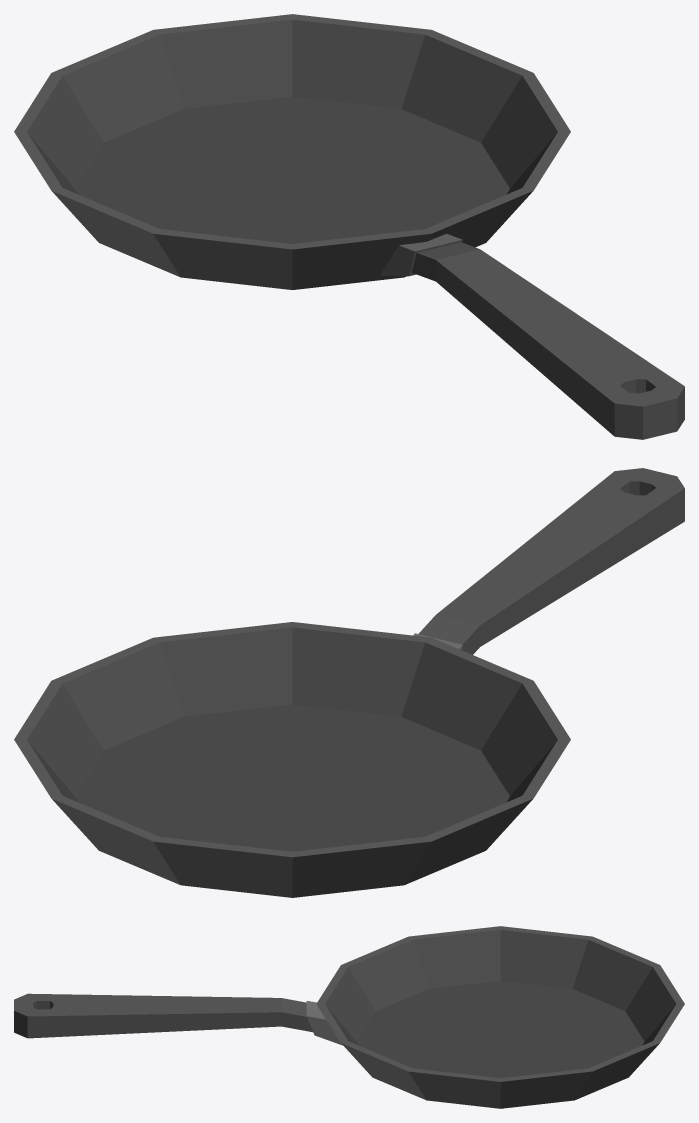
File: Pan_05_C2.fbx
The picture shows the model from 3 angles, top to bottom: view 1: azimuth 30°, elevation 25°; view 2: azimuth 150°, elevation 25°; view 3: azimuth 270°, elevation 25°; orthographic projection. The views are drawn at different scales.
Parts seen in each view (by area): view 1: Pan_05_C2; view 2: Pan_05_C2; view 3: Pan_05_C2.
Boxes of the visible parts, x1,y1,x2,y2 form: Pan_05_C2: (14, 14, 684, 439); Pan_05_C2: (14, 468, 684, 897); Pan_05_C2: (14, 926, 684, 1108).
Size of the model in its own units: 27.92 by 3.53 by 50.82.
